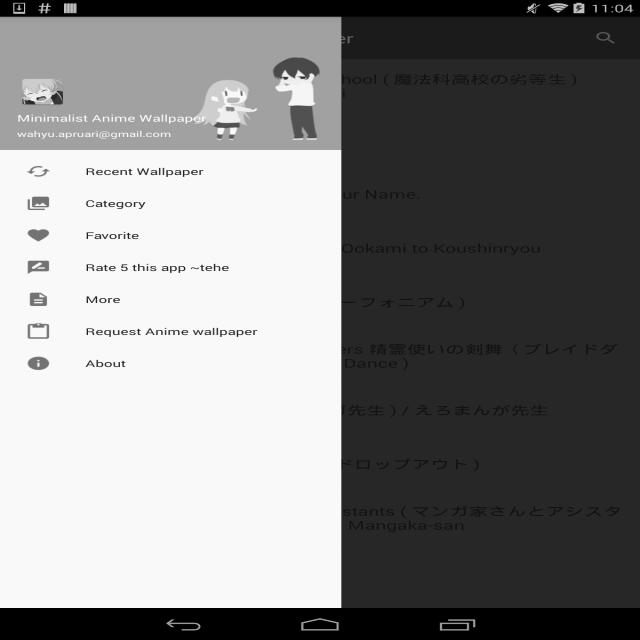CheckedTextView: (26, 156, 316, 188), (26, 188, 316, 220), (26, 220, 316, 252), (26, 252, 316, 284), (26, 284, 316, 316), (26, 316, 316, 348), (26, 348, 316, 380)
ImageButton: (9, 17, 68, 59)
ImageView: (10, 66, 74, 106), (10, 120, 74, 160), (10, 174, 74, 214), (10, 228, 74, 268), (10, 282, 74, 322), (10, 336, 74, 376), (10, 390, 74, 430), (10, 444, 74, 484), (10, 498, 74, 538), (10, 552, 74, 592), (10, 606, 74, 640), (17, 76, 68, 108)
TextView: (86, 71, 630, 101), (86, 341, 630, 371), (86, 503, 630, 533), (85, 402, 549, 418), (85, 240, 541, 256), (85, 456, 480, 472), (85, 294, 466, 310), (85, 186, 421, 202), (17, 124, 324, 140), (85, 29, 354, 47), (17, 112, 324, 124), (85, 132, 302, 148), (580, 22, 632, 54), (86, 564, 140, 580)
